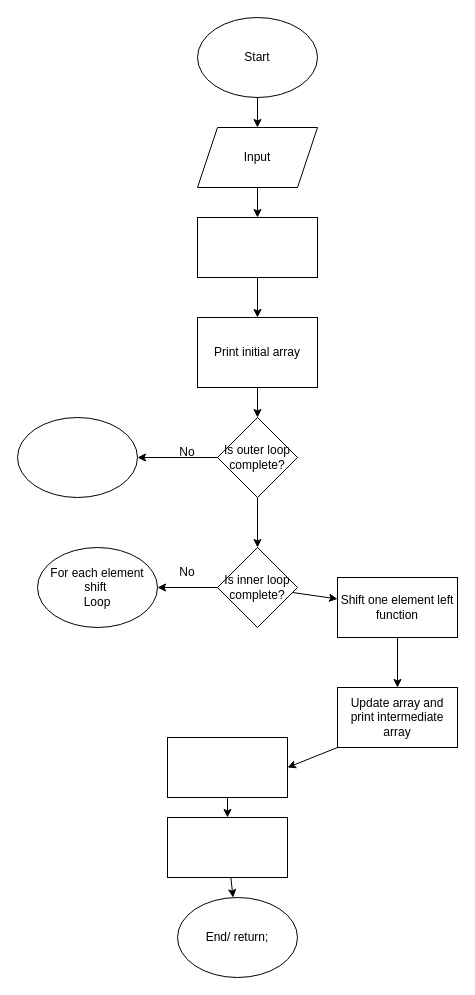
This 475x995 diagram has some shape labels left out. Each missing label, with the centre of its shape:
End loops: the point at 227,767
For each left notation Loop: the point at 77,457
Initialize variables: the point at 257,247
Print final array: the point at 227,847
